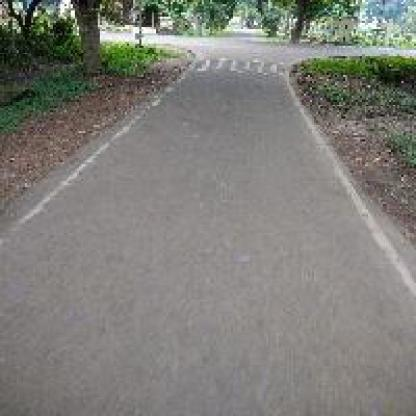Speed Bump: (183, 54, 287, 79)
